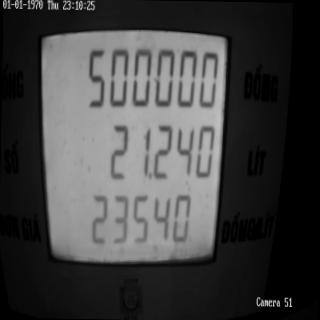screen: (29, 2, 235, 296)
